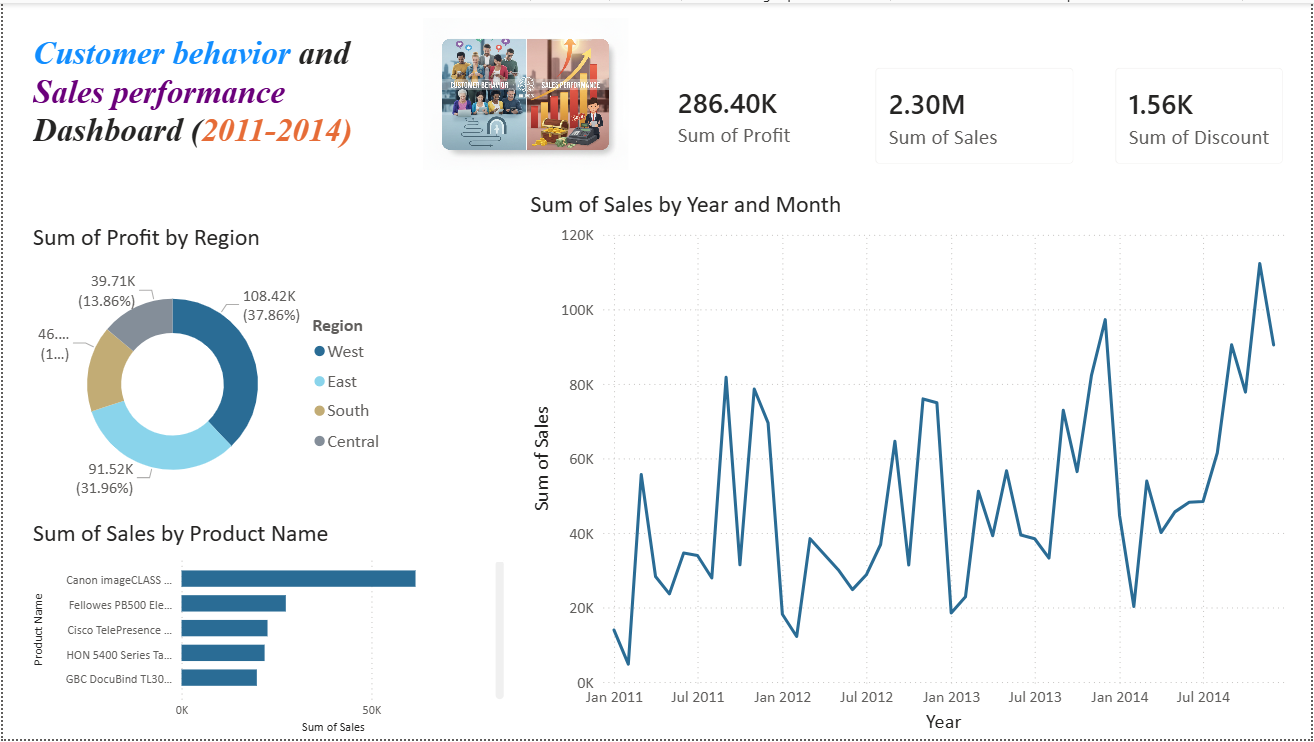

The dashboard page shown, as its layout file describes it:
{"tool":"powerbi","page":{"name":"Page 1","canvas":[1280,720],"ordinal":0},"visuals":[{"type":"cardVisual","fields":{"Data":["Sum(Orders.Profit)"]},"box":[640,47,196.7,128.3],"z":0},{"type":"cardVisual","fields":{"Data":["Sum(Orders.Sales)"]},"box":[843.8,38.5,228.1,144],"z":1000},{"type":"cardVisual","fields":{"Data":["Sum(Orders.Discount)"]},"box":[1071.7,46.7,199,129],"z":2000},{"type":"donutChart","fields":{"Category":["Orders.Region"],"Y":["Sum(Orders.Profit)"]},"box":[24.7,214.1,358.1,289.5],"z":3000},{"type":"barChart","fields":{"Category":["Orders.Product Name"],"Y":["Sum(Orders.Sales)"]},"box":[24.7,503.6,470.7,216.8],"z":5000},{"type":"textbox","box":[24.2,25.7,400.5,149.7],"z":6000},{"type":"image","box":[424.8,14.3,199.6,149.7],"z":7000},{"type":"lineChart","fields":{"Y":["Sum(Orders.Sales)"],"Category":["Orders.Order Date.Variation.Date Hierarchy.Year","Orders.Order Date.Variation.Date Hierarchy.Month"]},"box":[511.1,182.2,763,538],"z":7001}]}

Visuals, with their boxes in screenshot pixels (x1, y1, x2, y2), scaled from the page's 1280x720 canvas onto the 1314x742 screenshot:
cardVisual - Sum(Orders.Profit): 657/48/859/181
cardVisual - Sum(Orders.Sales): 866/40/1100/188
cardVisual - Sum(Orders.Discount): 1100/48/1304/181
donutChart - Orders.Region x Sum(Orders.Profit): 25/221/393/519
barChart - Orders.Product Name x Sum(Orders.Sales): 25/519/509/741
textbox: 25/26/436/181
image: 436/15/641/169
lineChart - Sum(Orders.Sales) x Orders.Order Date.Variation.Date Hierarchy.Year: 525/188/1308/741
